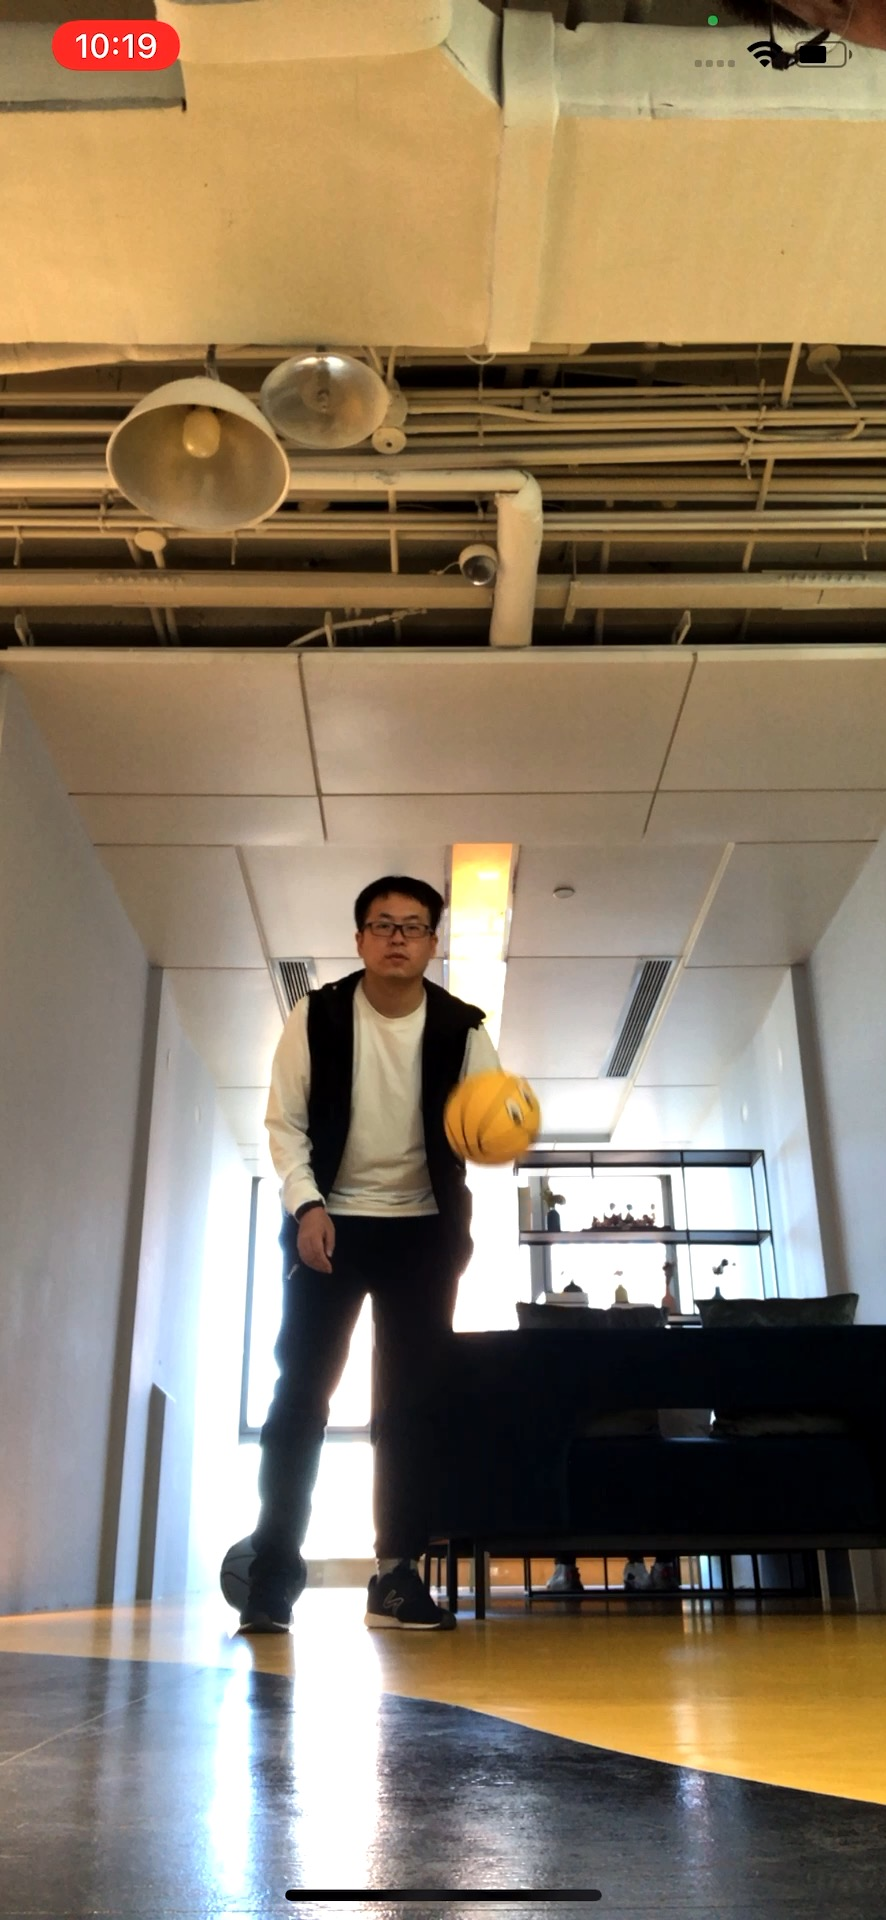ball: (441, 1071, 545, 1164), (221, 1536, 308, 1621)
